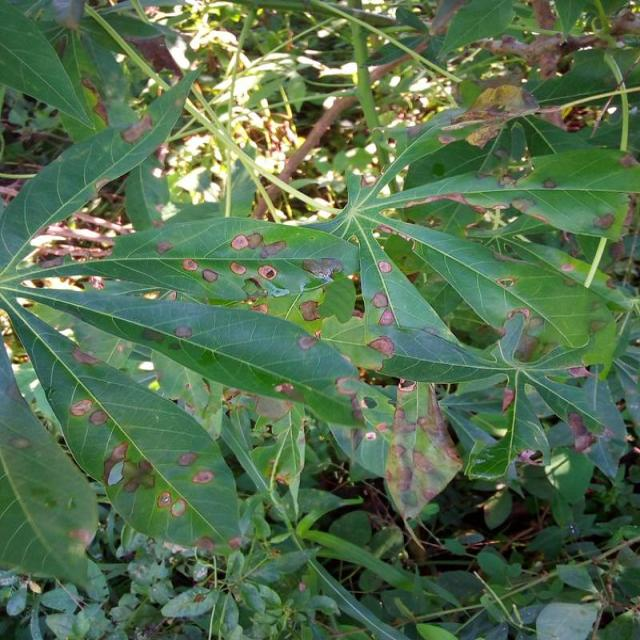cassava leaf: (0, 3, 638, 603)
